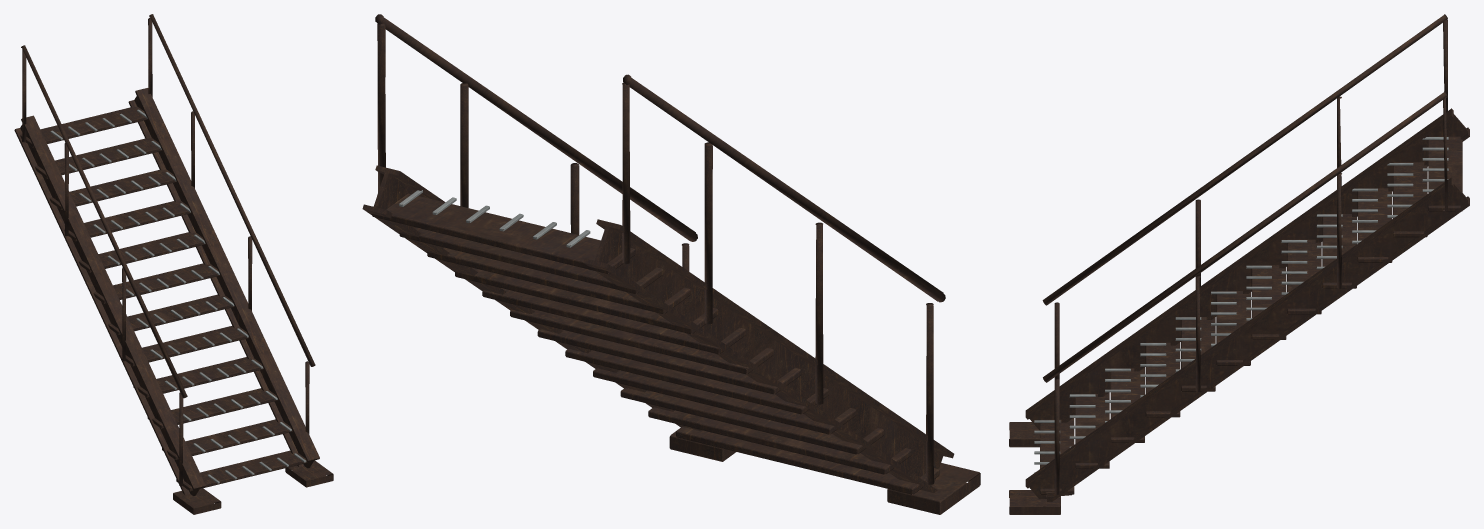
File: lod1_NOT_APPROVED.glb
3 renders of one model, left to right at view 1: azimuth 30°, elevation 25°; view 2: azimuth 150°, elevation 25°; view 3: azimuth 270°, elevation 25°, orthographic. The views are drawn at different scales.
Parts seen in each view (by area): view 1: f3_oxidized_iron_surface, f3_bare_worn_steel_surface; view 2: f3_oxidized_iron_surface, f3_bare_worn_steel_surface; view 3: f3_oxidized_iron_surface, f3_bare_worn_steel_surface.
Part boxes in pixels (left/top/right/bottom): f3_oxidized_iron_surface: left=14, top=14, right=333, bottom=514; f3_bare_worn_steel_surface: left=50, top=109, right=306, bottom=483; f3_oxidized_iron_surface: left=362, top=14, right=980, bottom=514; f3_bare_worn_steel_surface: left=399, top=190, right=590, bottom=247; f3_oxidized_iron_surface: left=1009, top=14, right=1469, bottom=514; f3_bare_worn_steel_surface: left=1034, top=137, right=1448, bottom=472.
Bounding box in the file's own units: 1.62 × 3.76 × 3.73.
2 materials, 2 textured.
